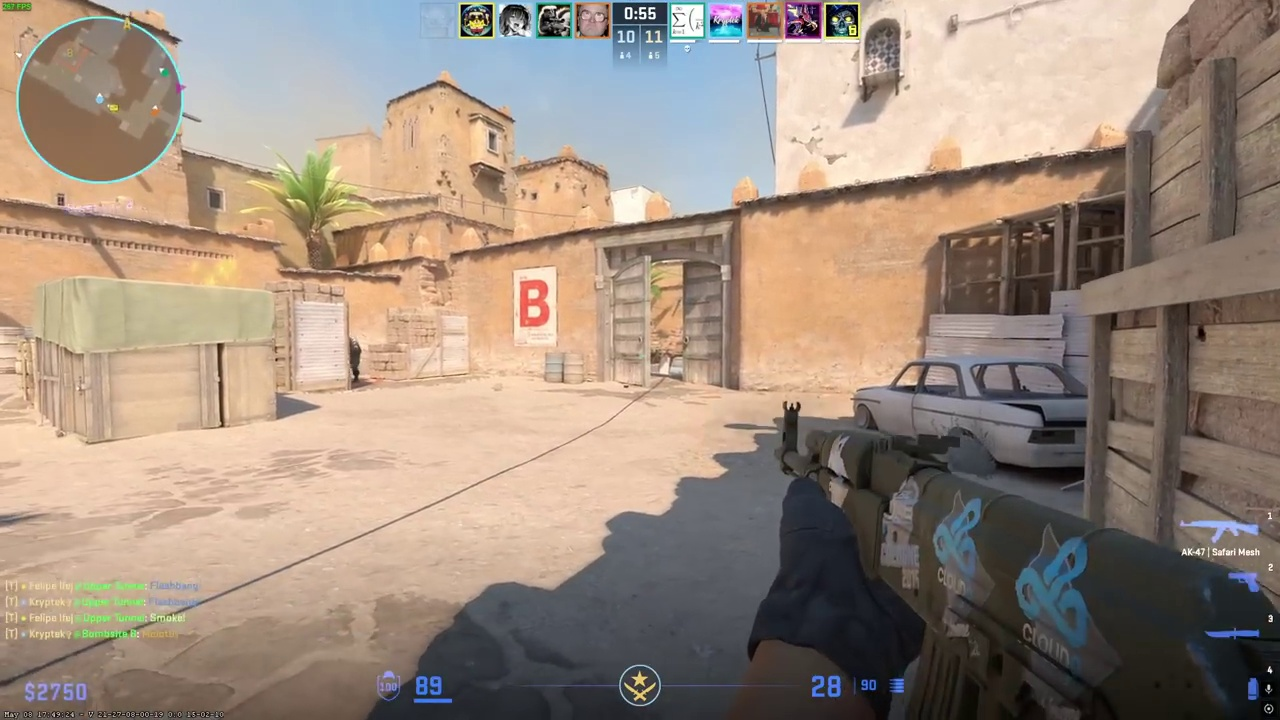CT: (349, 337, 362, 385)
